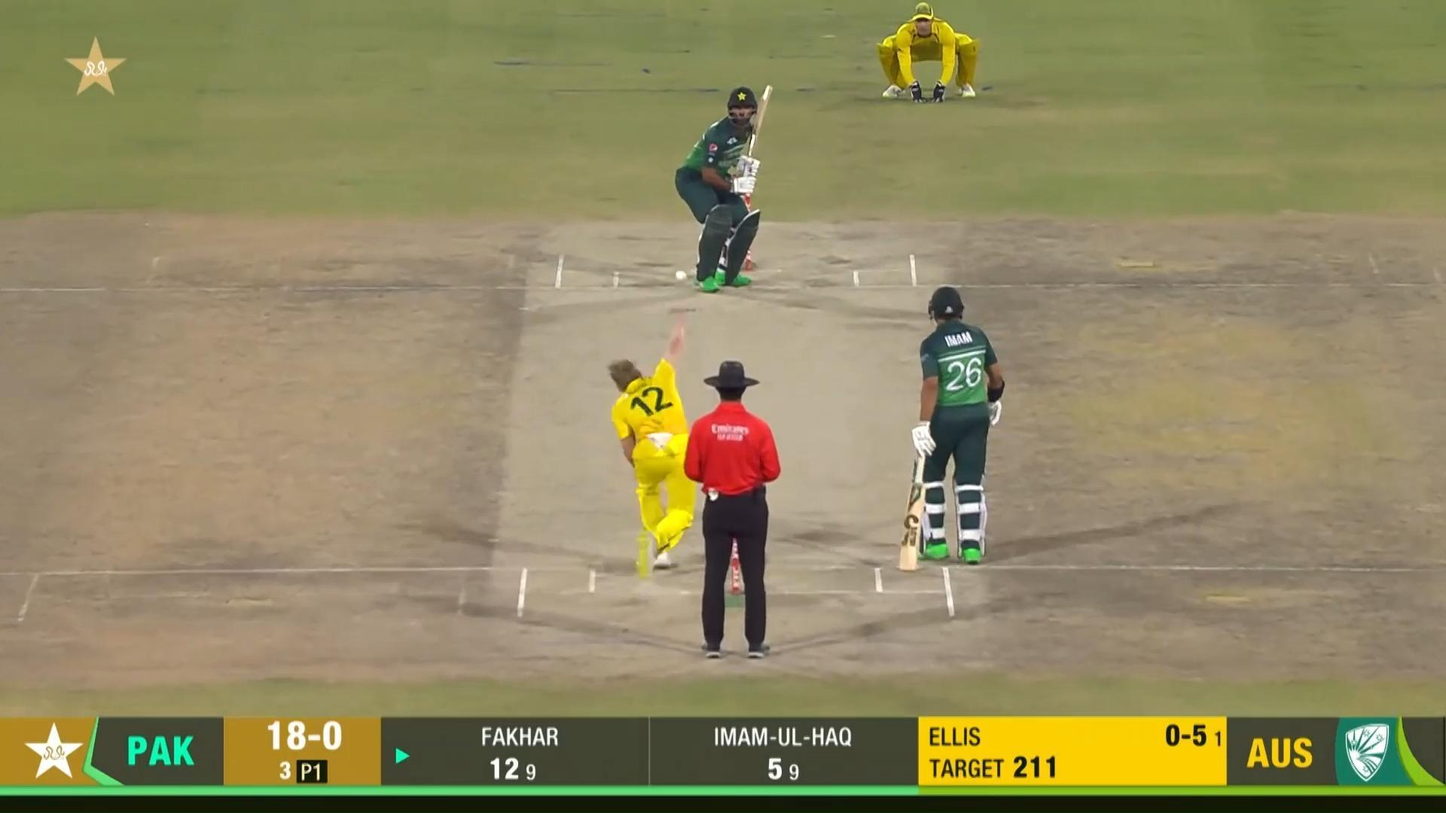BM 1: (674, 83, 777, 294)
BO: (606, 310, 704, 570)
